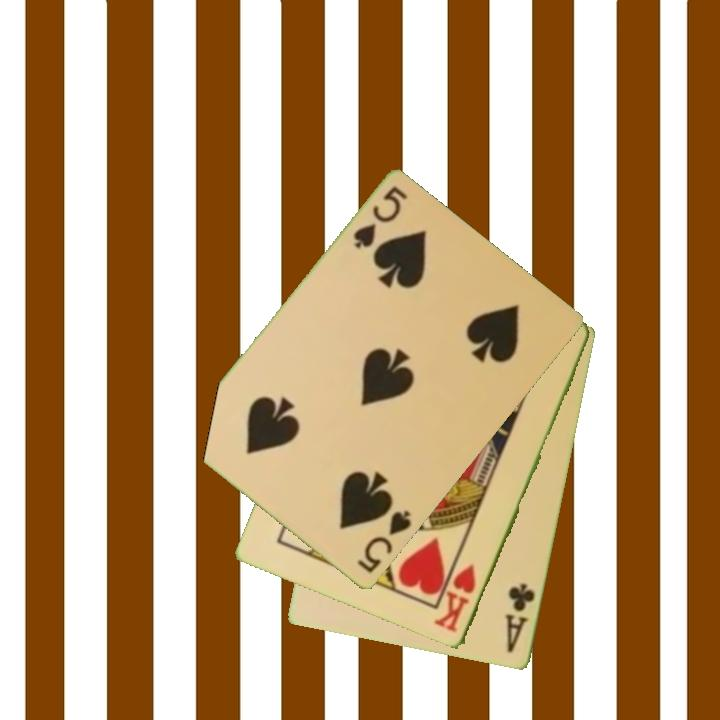5s: (353, 507, 415, 577), (349, 183, 411, 253)
Ac: (502, 580, 538, 656)
Kh: (431, 561, 480, 636)
